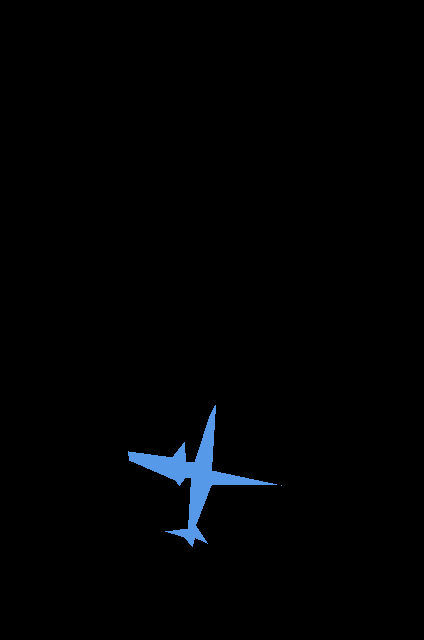Airplane: (128, 405, 282, 546)
